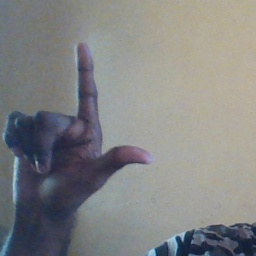L: (5, 41, 149, 213)
